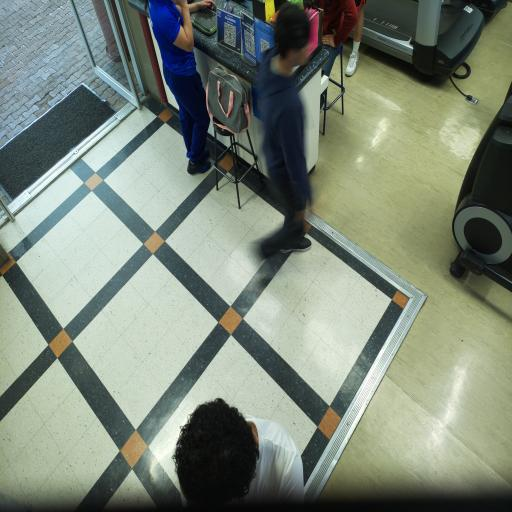person: (173, 399, 304, 505), (259, 4, 311, 257), (149, 0, 214, 174), (319, 0, 357, 75), (346, 0, 365, 76)
